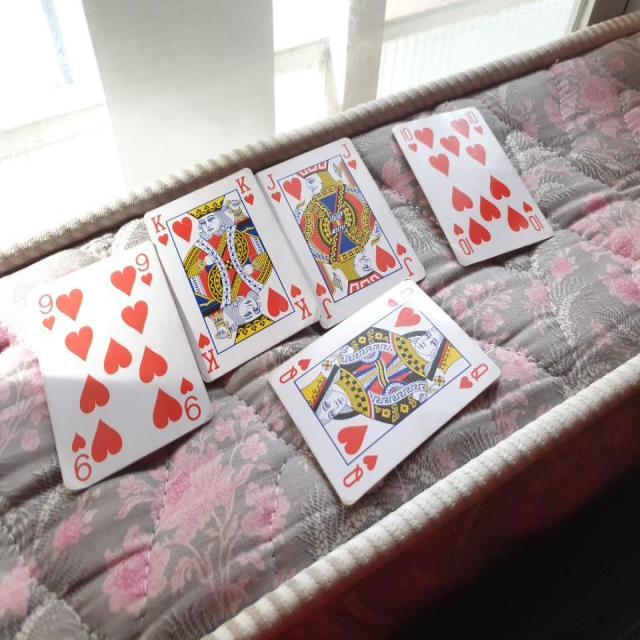10 of hearts: (388, 100, 552, 268)
9 of hearts: (35, 232, 214, 511)
jack of hearts: (256, 130, 429, 330)
king of hearts: (143, 156, 320, 385)
queen of hearts: (271, 276, 498, 508)
